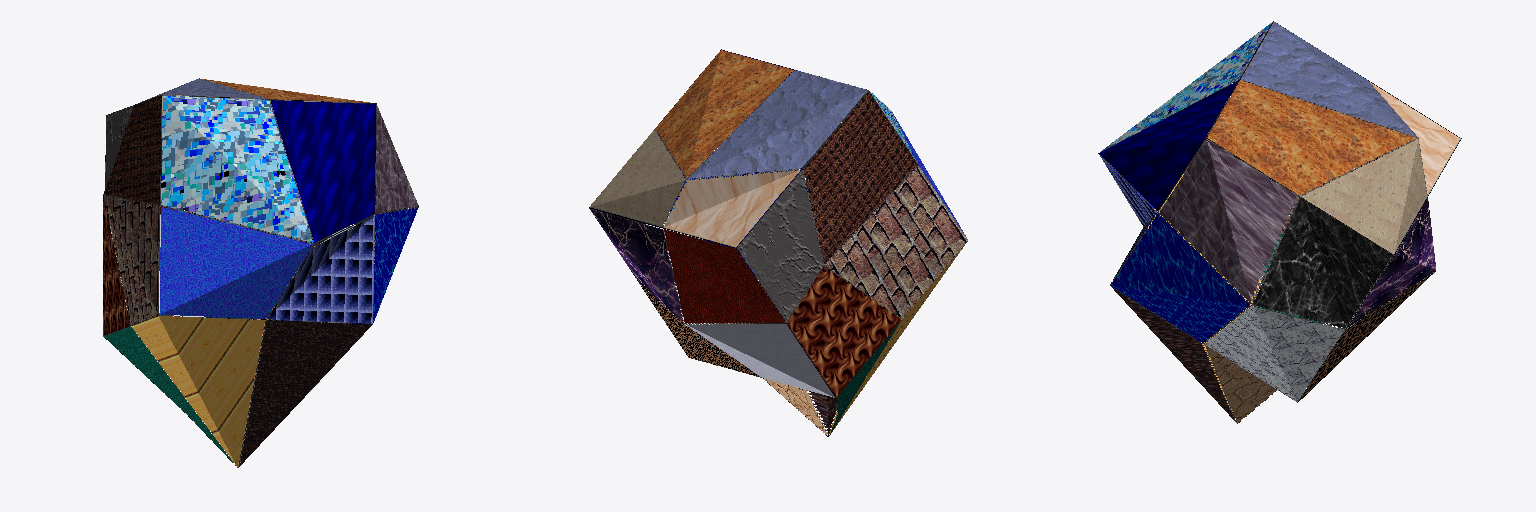
3 views of the same model, side by side, from view 1: azimuth 30°, elevation 25°; view 2: azimuth 150°, elevation 25°; view 3: azimuth 270°, elevation 25° (orthographic).
Parts seen in each view (by area): view 1: Cube; view 2: Cube; view 3: Cube.
Part boxes in pixels (left/top/right/bottom): Cube: left=103, top=78, right=418, bottom=467; Cube: left=589, top=49, right=967, bottom=436; Cube: left=1098, top=21, right=1461, bottom=423.
Size of the model in its own units: 2.01 by 2.42 by 2.12.
1 materials, 1 textured.